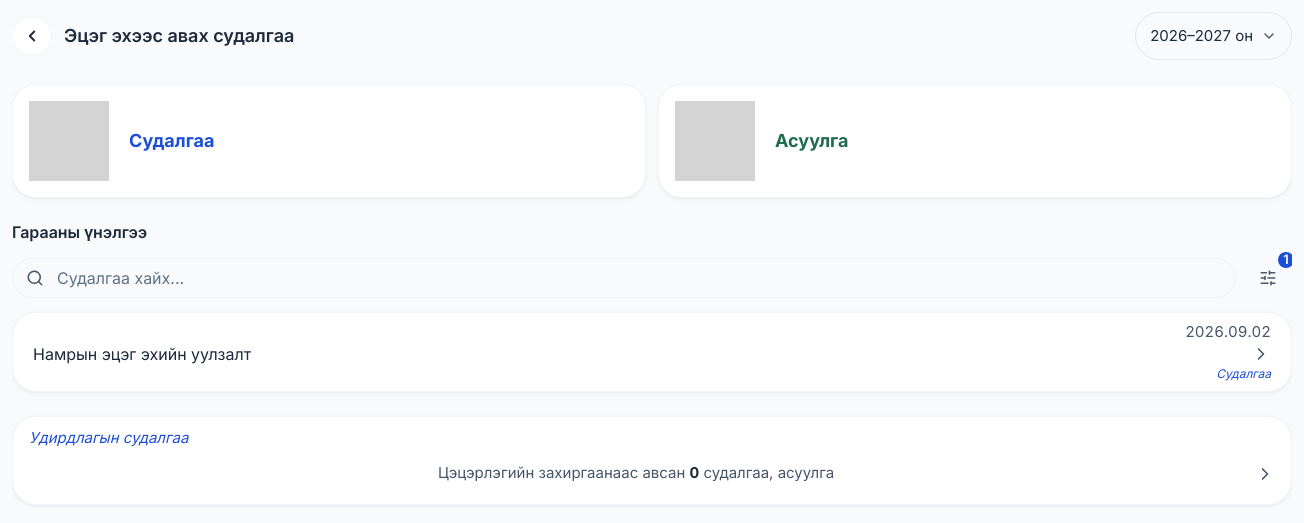
Test: the survey hub › filters a wave's surveys by the school year picked beside the title
Expected: the link named "Буцах" is shown, [12, 16, 52, 56]
Expected: the text "Намрын эцэг эхийн уулзалт" is shown, [33, 344, 251, 364]
Click the dropdown named "Хичээлийн жил": (1214, 36) [1135, 12, 1292, 60]
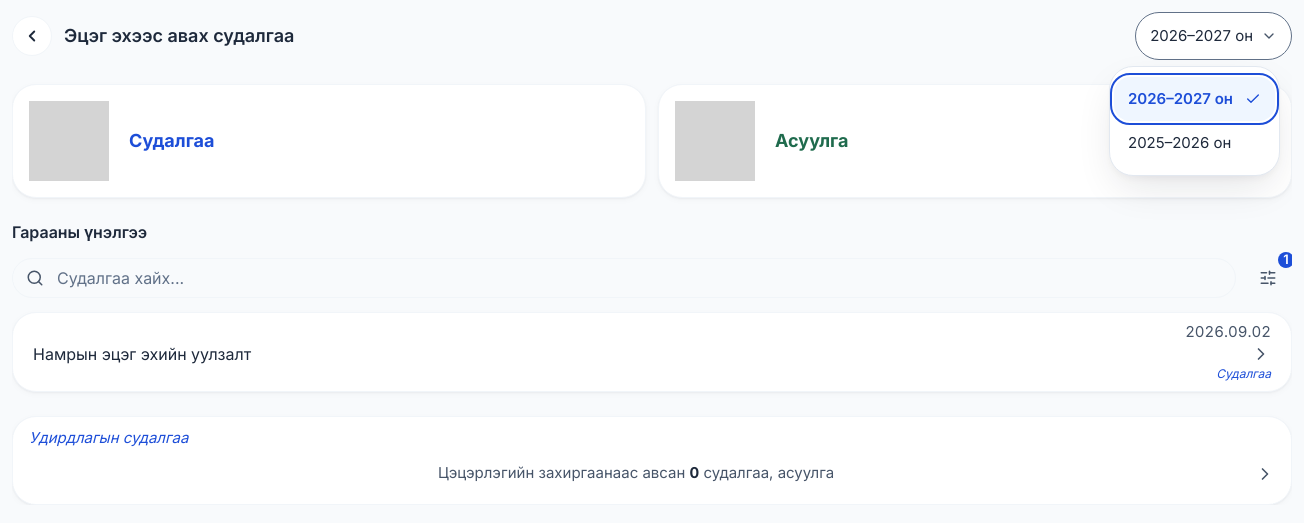
Click the option "2025–2026 он": (1180, 142) [1128, 133, 1231, 152]
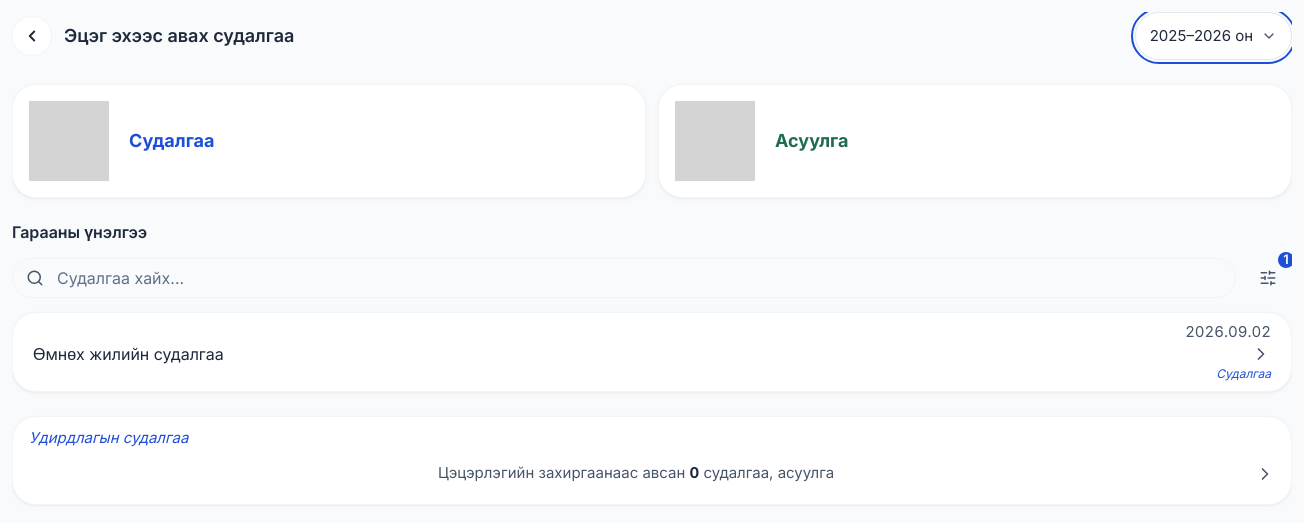
Now the text "Өмнөх жилийн судалгаа" is shown, box [33, 344, 224, 364]
Now the link "Намрын эцэг эхийн уулзалт" is gone
